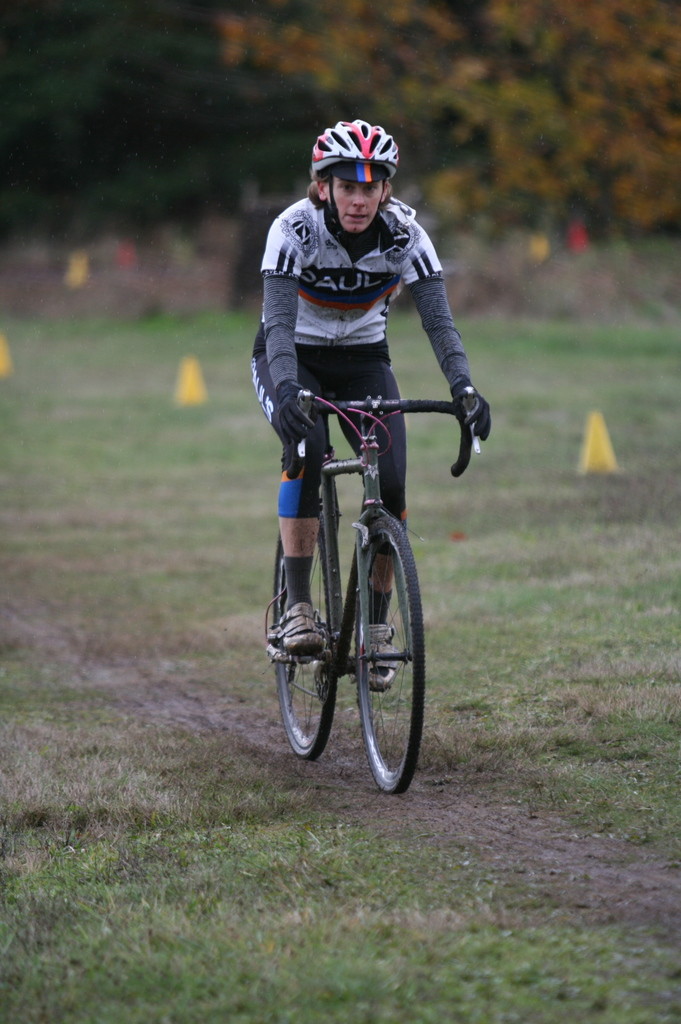Bike_toward: (246, 385, 477, 802)
